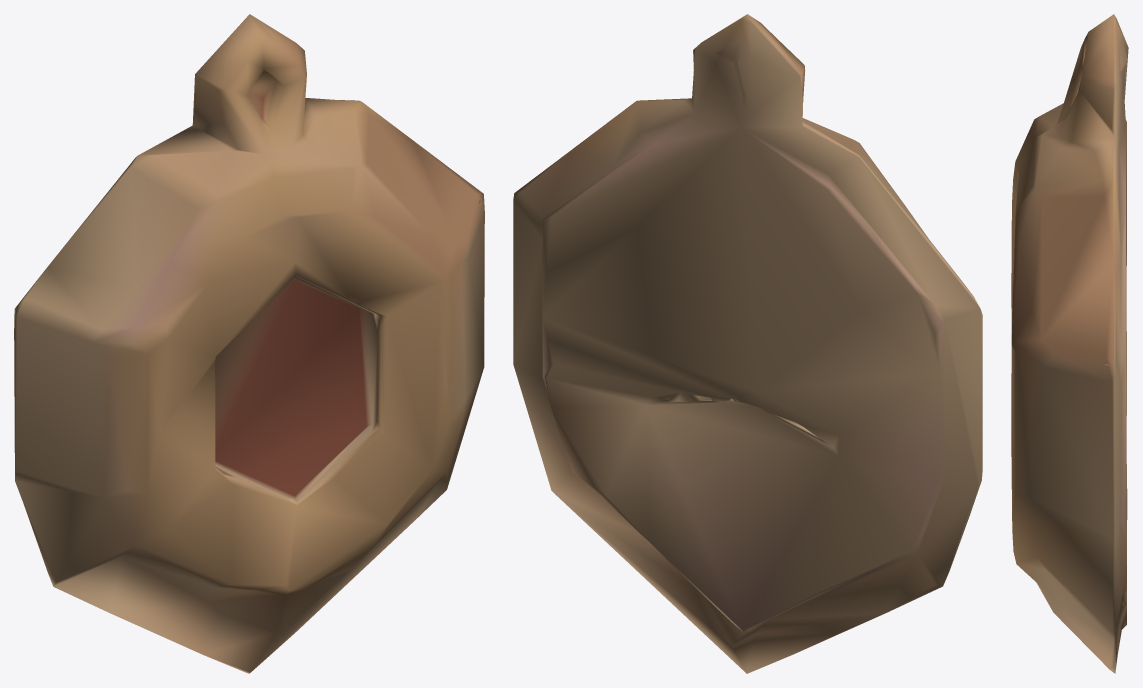
File: gen3d-amulet-lod1.glb
3 views of the same model, side by side, from view 1: azimuth 30°, elevation 25°; view 2: azimuth 150°, elevation 25°; view 3: azimuth 270°, elevation 25° (orthographic).
Parts seen in each view (by area): view 1: part_0; view 2: part_0; view 3: part_0.
Part boxes in pixels (box(x1,y1,x2,y2)): part_0: box(14, 14, 484, 673); part_0: box(513, 14, 982, 673); part_0: box(1011, 14, 1128, 673).
Bounding box in the file's own units: 0.7446 × 1 × 0.161.
